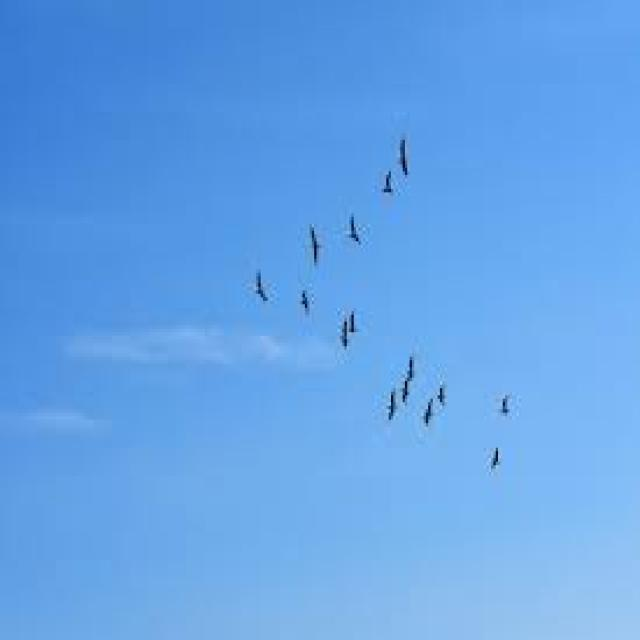bird: (392, 128, 423, 198), (341, 203, 372, 259), (328, 311, 354, 367), (305, 216, 326, 284), (377, 160, 400, 220), (418, 392, 444, 444), (250, 257, 274, 313), (296, 278, 321, 320), (380, 379, 400, 428), (350, 292, 371, 334), (489, 433, 507, 482), (436, 360, 453, 409), (404, 352, 422, 386), (498, 383, 514, 418), (399, 376, 413, 408)
